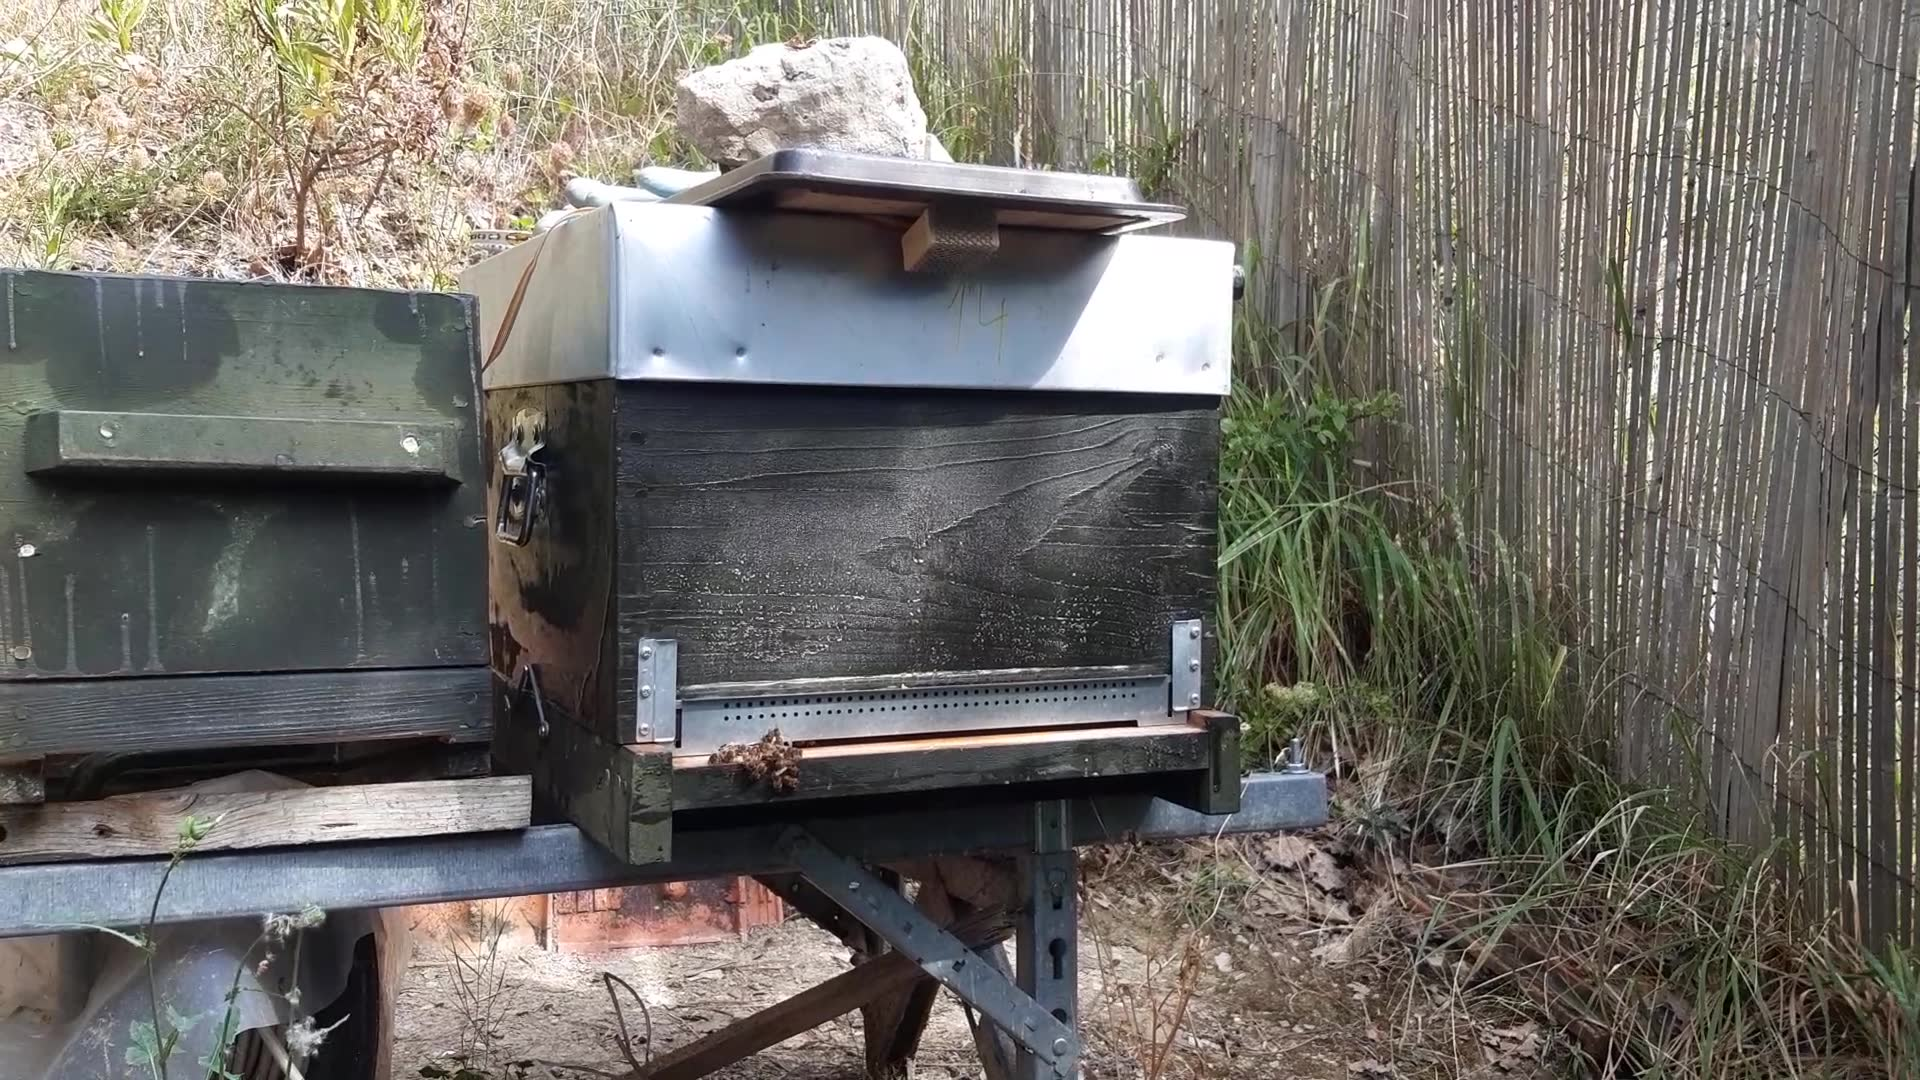bee: (711, 725, 804, 794)
